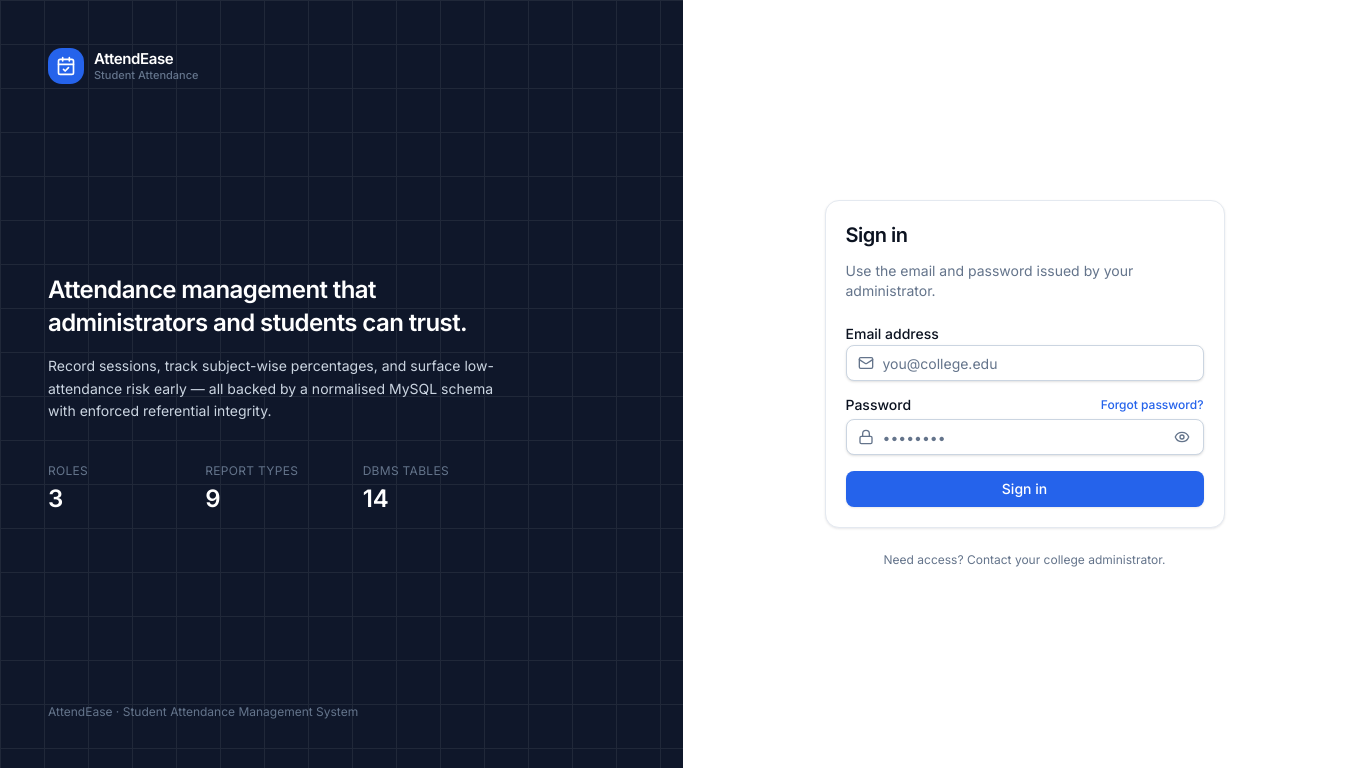
Test: Login page › shows the message returned by the server for invalid credentials
Type "admin@attendease.test" into the field labelled "Email address". click: [1024, 363]
box: x1=846 y1=345 x2=1204 y2=381
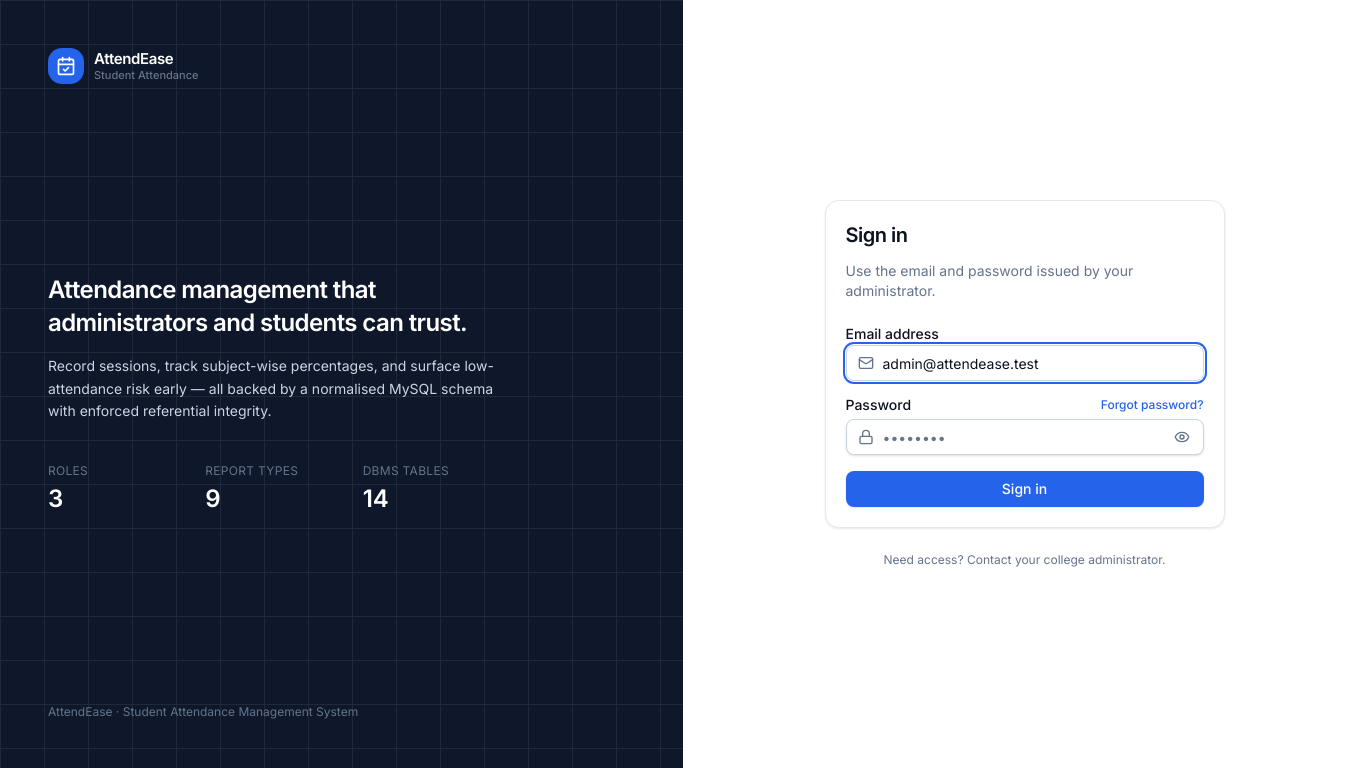
Type "WrongPass@123" into the password field labelled "Password". click: [1024, 437]
box: x1=846 y1=419 x2=1204 y2=455
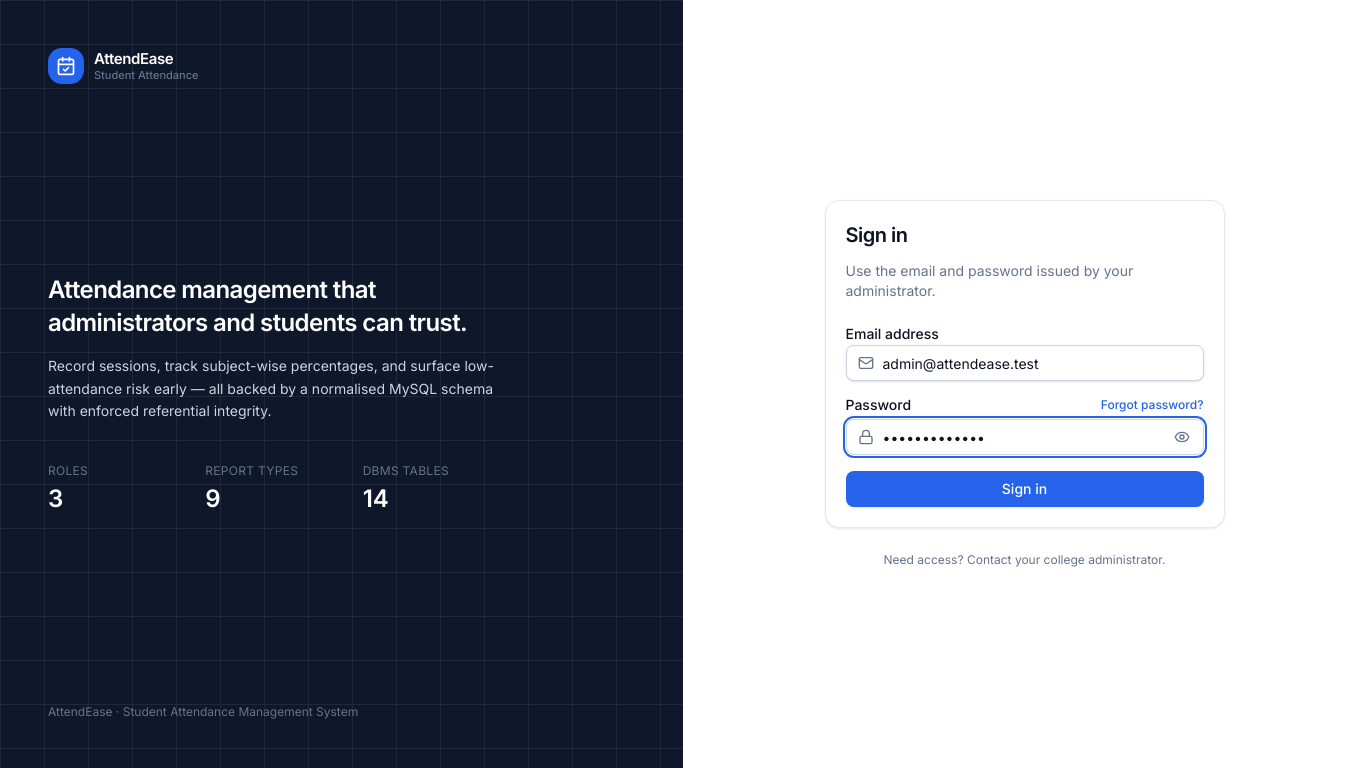
Click the button "Sign in". click: [1024, 489]
box: x1=846 y1=471 x2=1204 y2=507
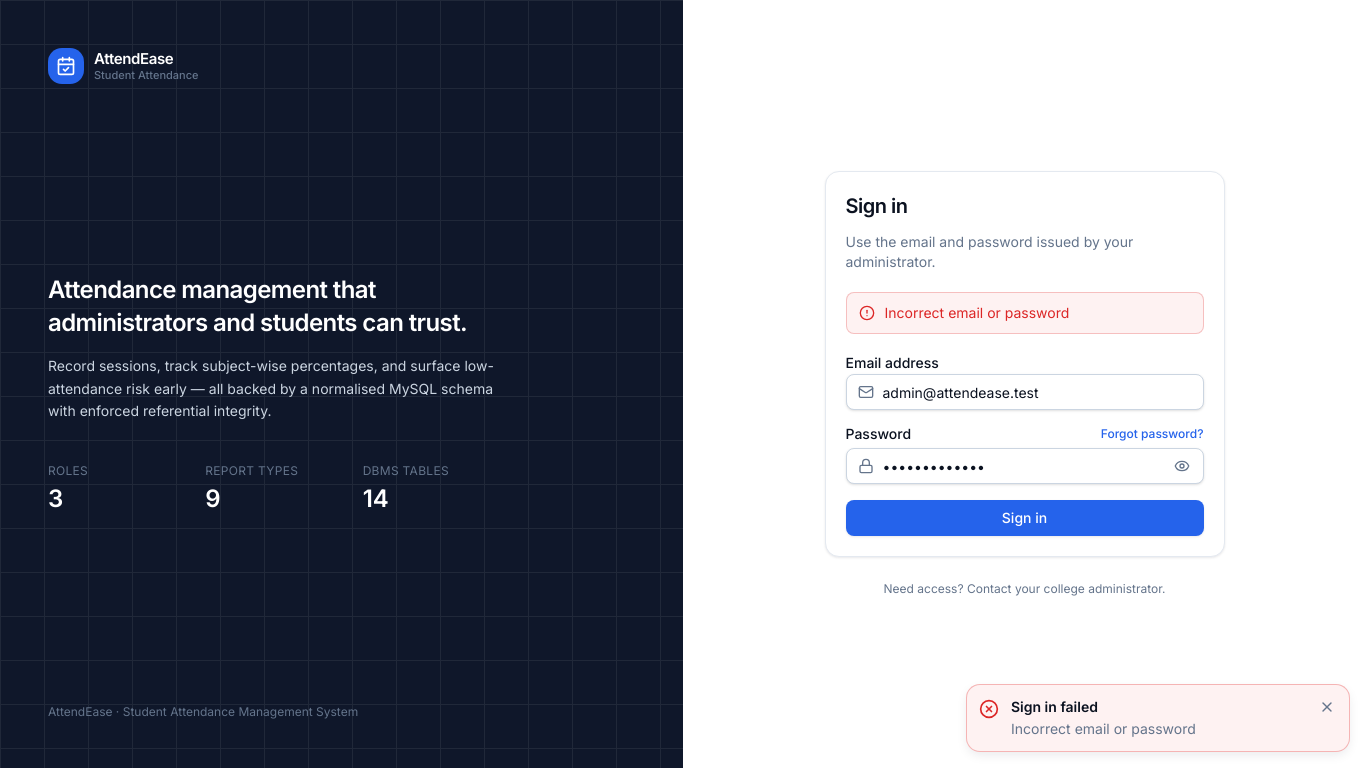
Check: the message "Incorrect email or password" is shown, box x1=846 y1=292 x2=1204 y2=334
